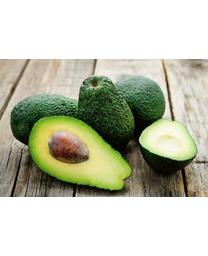avocado: (28, 116, 134, 192), (78, 74, 135, 153), (10, 93, 93, 146), (138, 116, 198, 177), (111, 77, 165, 131)
